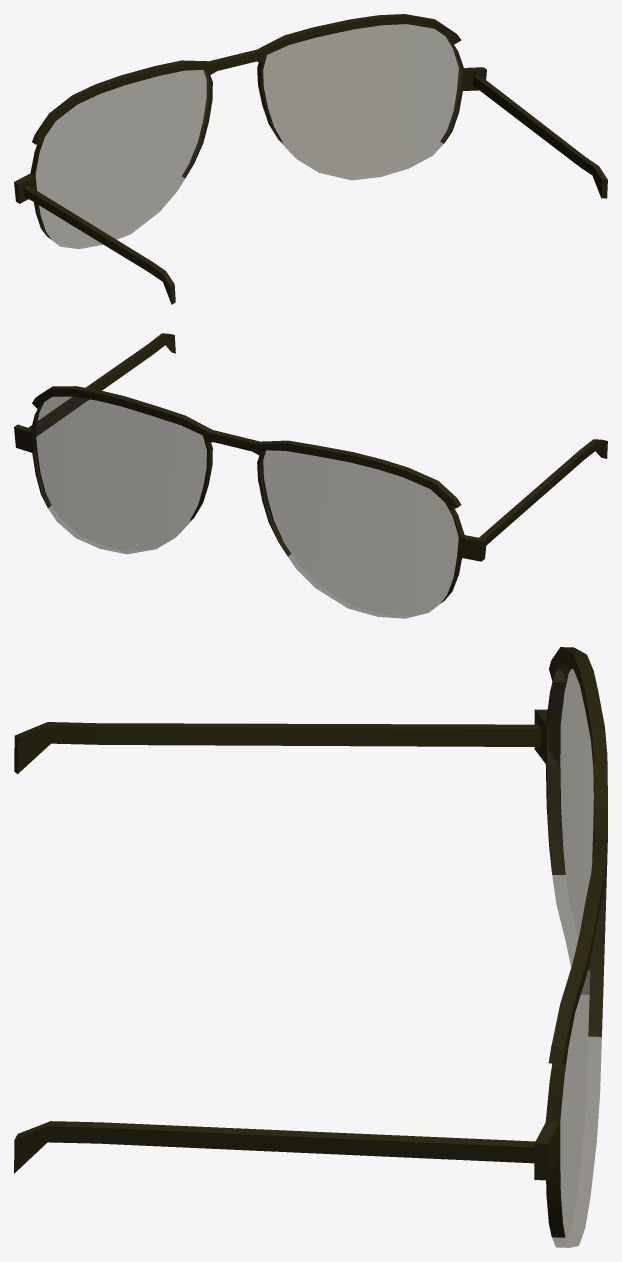
3 renders of one model, top to bottom at view 1: azimuth 30°, elevation 25°; view 2: azimuth 150°, elevation 25°; view 3: azimuth 270°, elevation 25°, orthographic. The views are drawn at different scales.
Visible parts, largest first — view 1: glasses; view 2: glasses; view 3: glasses.
Part boxes in pixels (x1=…): glasses: x1=14, y1=14, x2=607, y2=304; glasses: x1=14, y1=333, x2=607, y2=618; glasses: x1=14, y1=647, x2=607, y2=1247.
Bounding box in the file's own units: 17.52 × 5.66 × 10.12.
